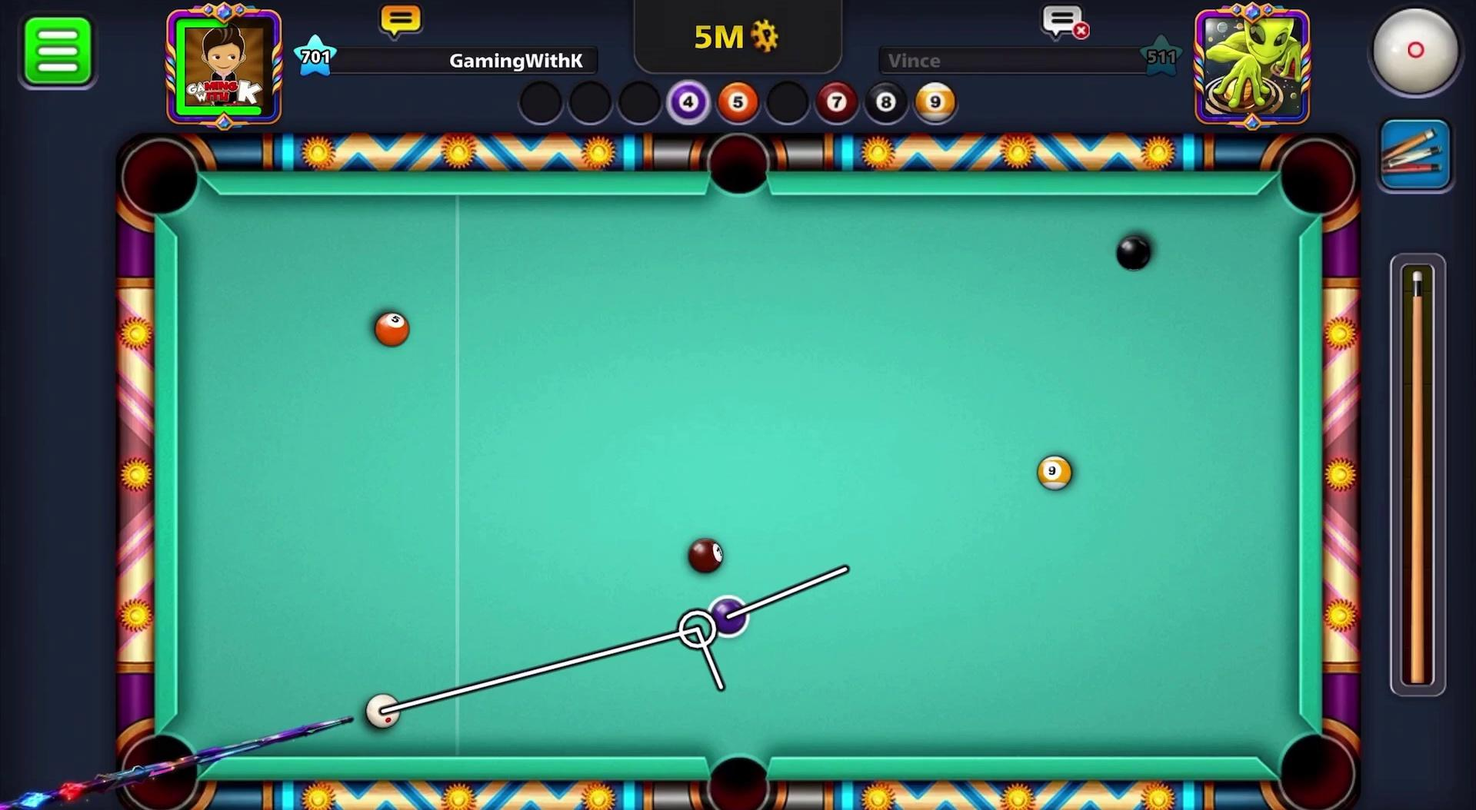Ball: (678, 533, 734, 584), (1031, 447, 1079, 496), (369, 305, 419, 351), (1114, 231, 1154, 273), (701, 590, 750, 624)
Force: (1385, 254, 1453, 712)
Guideline: (366, 565, 850, 727)
Hole: (101, 715, 222, 809), (1267, 129, 1366, 231), (1265, 717, 1364, 809), (114, 131, 206, 226), (683, 739, 788, 809), (701, 124, 777, 201)
Play_Area: (178, 194, 1298, 761)
Spin: (1349, 0, 1475, 114)
White: (355, 690, 405, 736)
